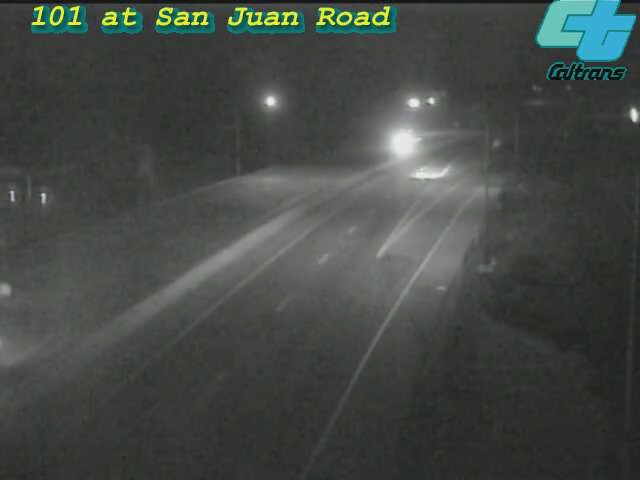vehicle: (378, 136, 458, 216), (1, 255, 45, 335), (375, 117, 425, 167)
